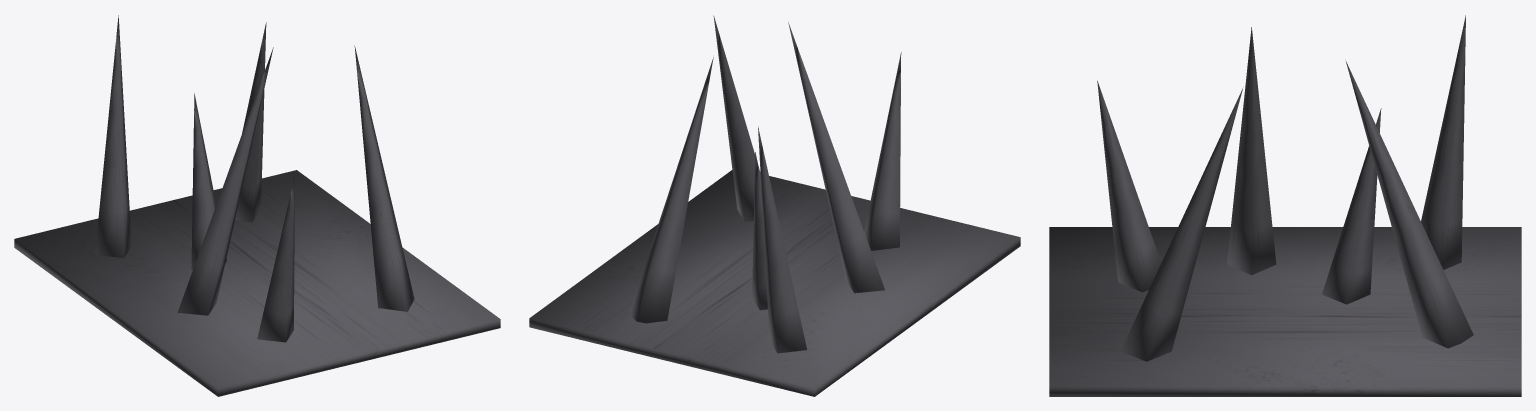
Rendered from Pincho4.obj.
The picture shows the model from 3 angles, left to right: view 1: azimuth 30°, elevation 25°; view 2: azimuth 150°, elevation 25°; view 3: azimuth 270°, elevation 25°; orthographic projection. The views are drawn at different scales.
Parts seen in each view (by area): view 1: Box005, Cone022, Cone020, Cone019, Cone021, Cone024, Cone023; view 2: Box005, Cone024, Cone020, Cone019, Cone021, Cone022, Cone023; view 3: Box005, Cone024, Cone022, Cone020, Cone019, Cone021, Cone023.
Boxes of the visible parts, box(x1,y1,x2,y2) form: Box005: box(14, 170, 500, 396); Cone022: box(354, 45, 414, 311); Cone020: box(177, 47, 273, 315); Cone019: box(95, 15, 131, 258); Cone021: box(257, 176, 294, 342); Cone024: box(235, 22, 266, 222); Cone023: box(191, 93, 227, 269); Box005: box(529, 170, 1020, 396); Cone024: box(629, 57, 713, 323); Cone020: box(788, 22, 884, 293); Cone019: box(758, 126, 806, 353); Cone021: box(864, 52, 901, 250); Cone022: box(713, 15, 760, 221); Cone023: box(752, 152, 767, 310); Box005: box(1049, 227, 1521, 396); Cone024: box(1346, 61, 1473, 348); Cone022: box(1120, 88, 1242, 361); Cone020: box(1227, 27, 1276, 275); Cone019: box(1421, 15, 1465, 269); Cone021: box(1097, 80, 1161, 292); Cone023: box(1322, 108, 1381, 304).
Size of the model in its own units: 40 by 35.04 by 50.
